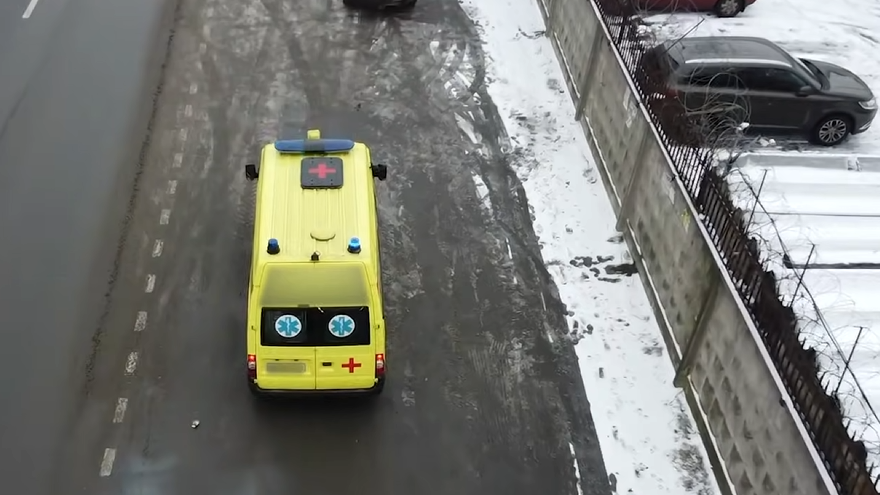intensive care unit: (239, 130, 389, 403)
non emergency car: (635, 35, 876, 146)
